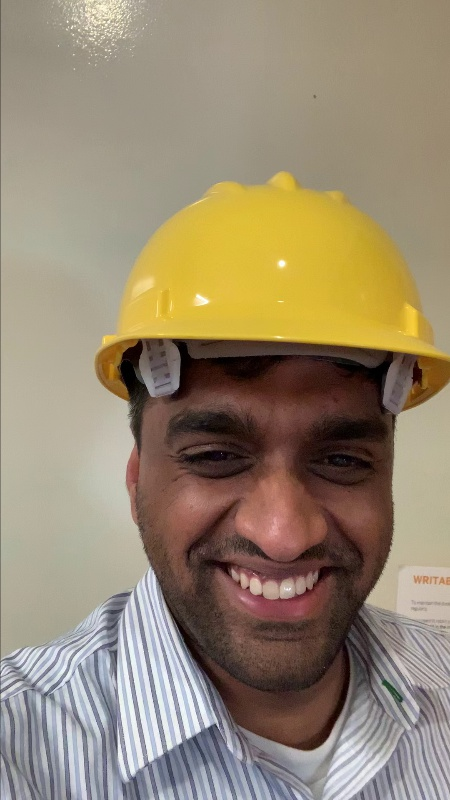helmet: (92, 172, 450, 413)
